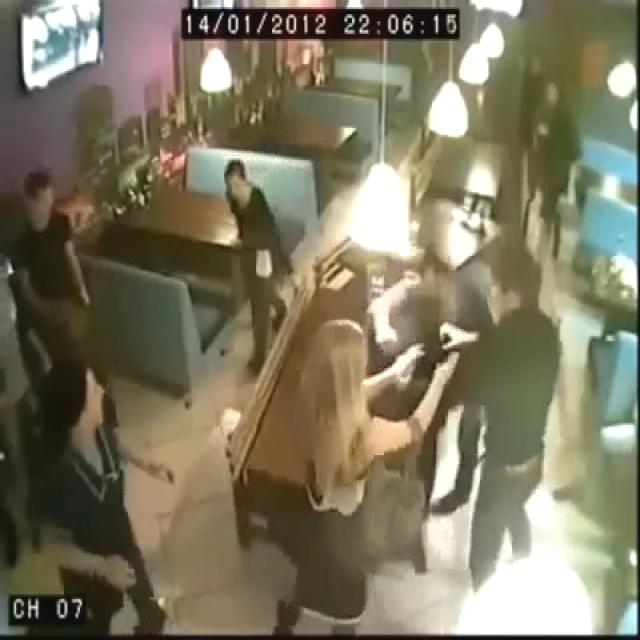fight: (378, 220, 523, 440)
